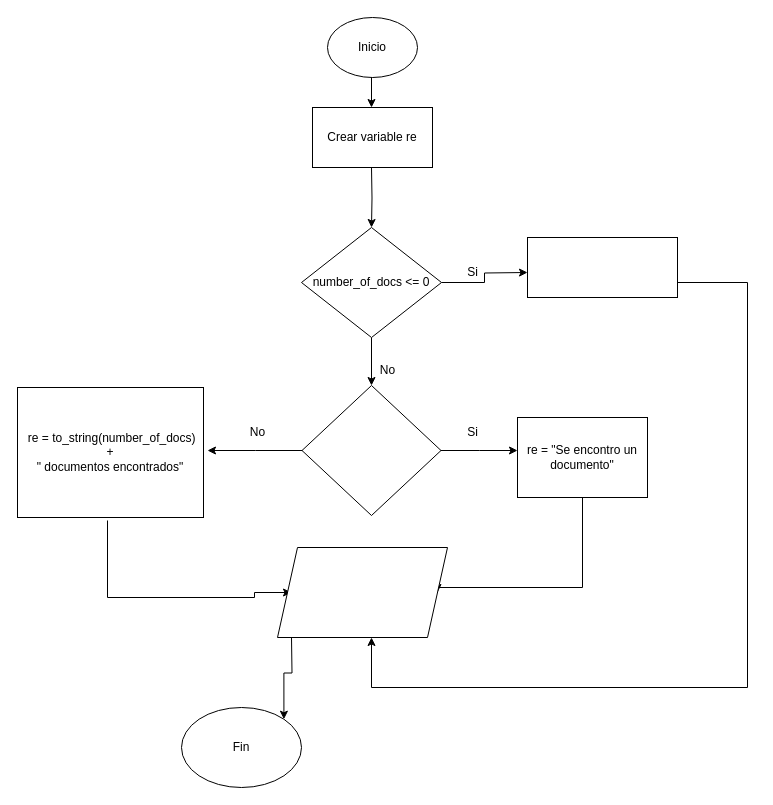
The diagram is 773 pixels wide and 805 high, and some of its shapes have lost their labels. Each missing label, with the centre of its shape:
number_of_docs == 1: pixel 371 450
re = "No se encontraron documentos": pixel 602 267
Retornar re: pixel 362 592
